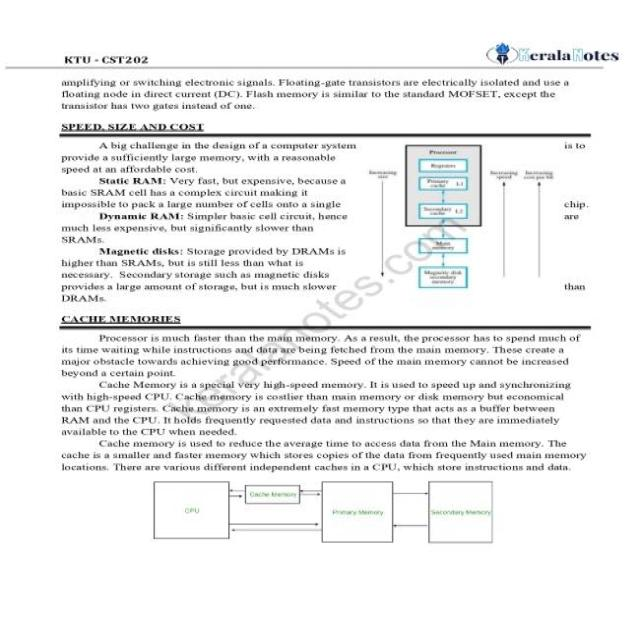Figure Detection - v3 Dataset Version2: (145, 474, 505, 564), (367, 142, 558, 298)
